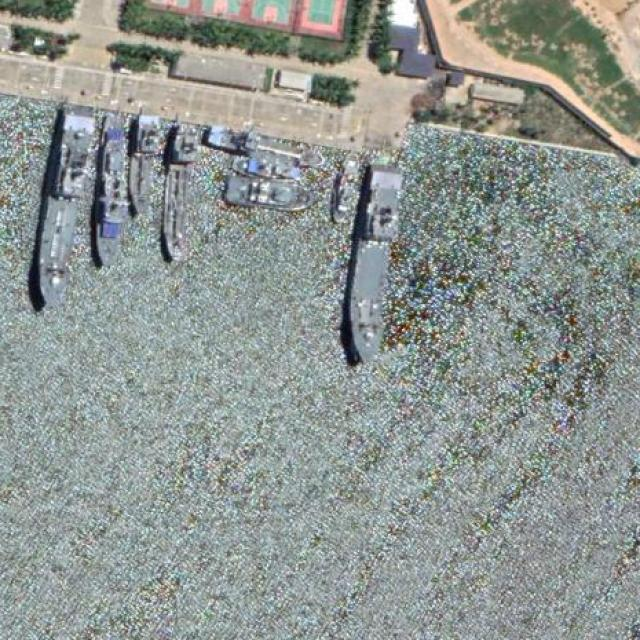Landing: (28, 102, 102, 310), (344, 161, 406, 366), (161, 123, 201, 259), (127, 116, 166, 217)
Other Ship: (206, 127, 328, 172), (230, 156, 311, 184)
Other Warship: (94, 119, 129, 266), (224, 175, 317, 217)
